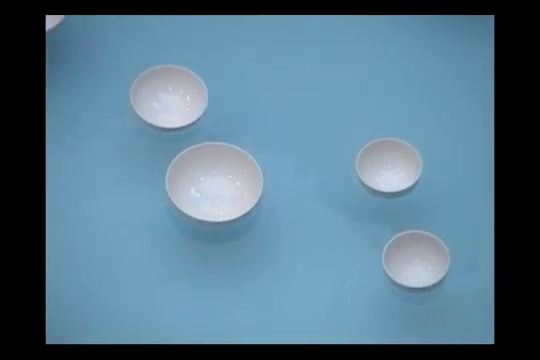bowl: (165, 142, 263, 230), (129, 64, 208, 135), (381, 230, 450, 293), (354, 137, 422, 200)
